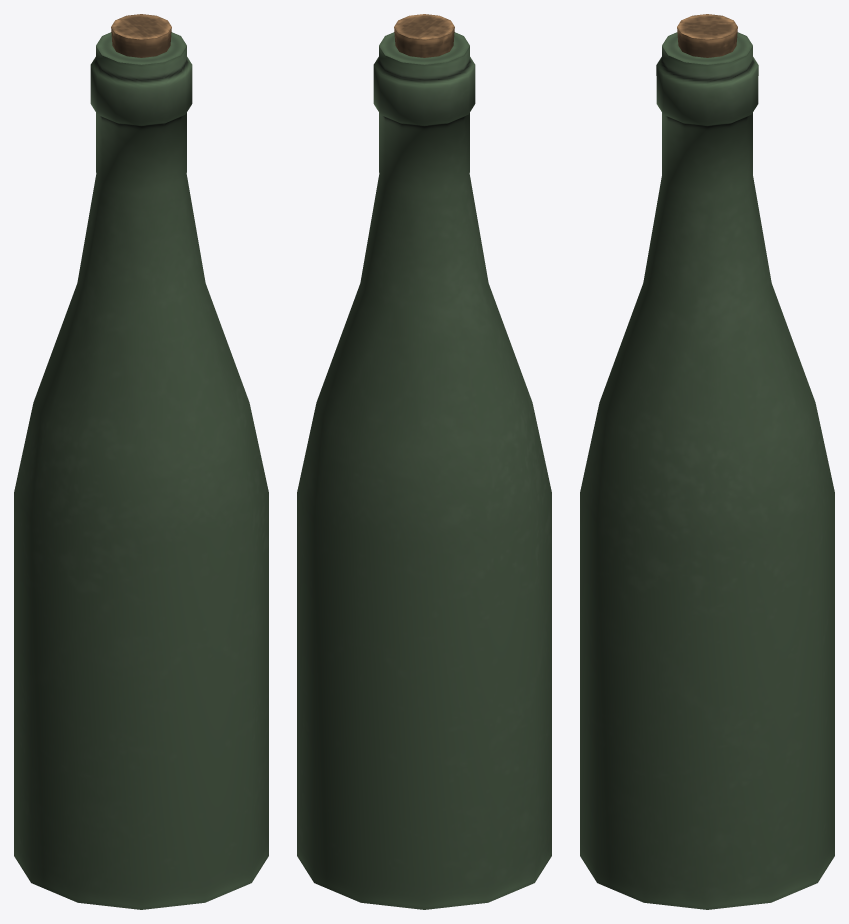
File: LOD0_smallBottle_closed.fbx
3 views of the same model, side by side, from view 1: azimuth 30°, elevation 25°; view 2: azimuth 150°, elevation 25°; view 3: azimuth 270°, elevation 25° (orthographic).
Parts seen in each view (by area): view 1: LOD0_smallBottle_closed; view 2: LOD0_smallBottle_closed; view 3: LOD0_smallBottle_closed.
Part boxes in pixels (x1,y1,x2,y2): LOD0_smallBottle_closed: (14,14,268,909); LOD0_smallBottle_closed: (297,14,551,909); LOD0_smallBottle_closed: (580,14,834,909).
Size of the model in its own units: 0.0929 by 0.3337 by 0.0929.
